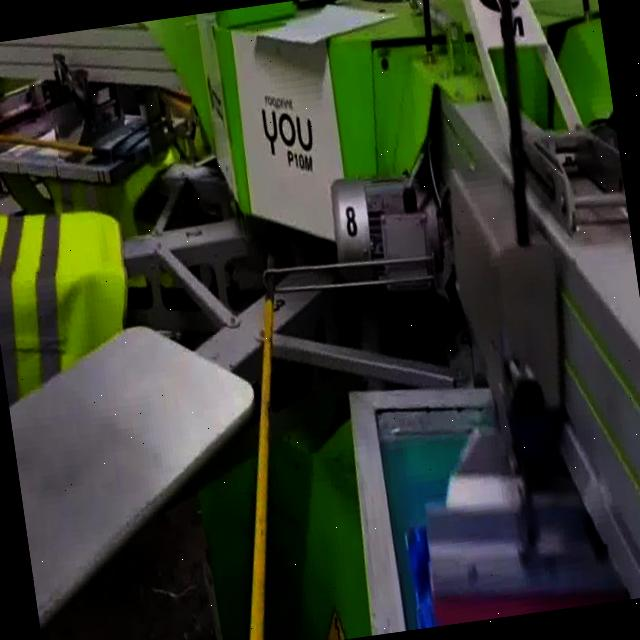vest: (0, 198, 144, 403)
